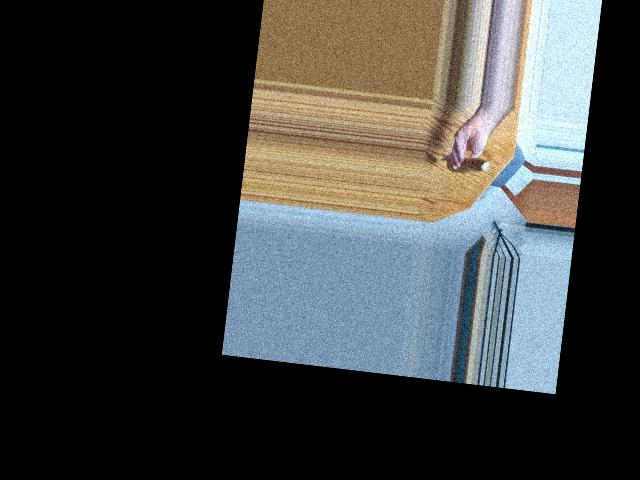sweet_potato: (451, 150, 489, 178)
